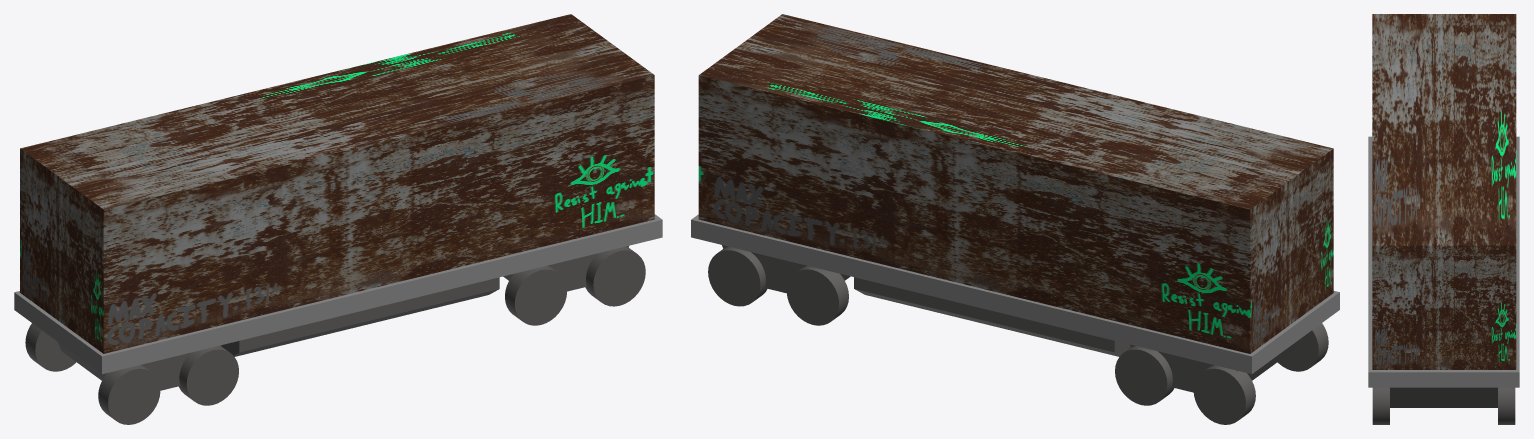
The model's file is traincar4.glb.
3 views of the same model, side by side, from view 1: azimuth 30°, elevation 25°; view 2: azimuth 150°, elevation 25°; view 3: azimuth 270°, elevation 25° (orthographic). The views are drawn at different scales.
Visible parts, largest first — view 1: Cube.001, Cube, Cylinder, Cube.003, Cube.005; view 2: Cube.001, Cube, Cylinder, Cube.003, Cube.005; view 3: Cube.001, Cube, Cube.005, Cylinder.
Part boxes in pixels (<box>): Cube.001: <box>20,14,654,353</box>; Cube: <box>14,214,662,374</box>; Cylinder: <box>25,246,645,424</box>; Cube.003: <box>221,277,499,356</box>; Cube.005: <box>58,246,628,390</box>; Cube.001: <box>698,14,1333,353</box>; Cube: <box>691,214,1339,374</box>; Cylinder: <box>708,246,1328,424</box>; Cube.003: <box>854,277,1130,356</box>; Cube.005: <box>722,245,1296,392</box>; Cube.001: <box>1372,14,1516,369</box>; Cube: <box>1368,136,1519,387</box>; Cube.005: <box>1390,387,1497,407</box>; Cylinder: <box>1372,387,1515,424</box>.
Size of the model in its own units: 21.39 by 8.11 by 5.8.
Materials: 3 (1 with a texture image).
